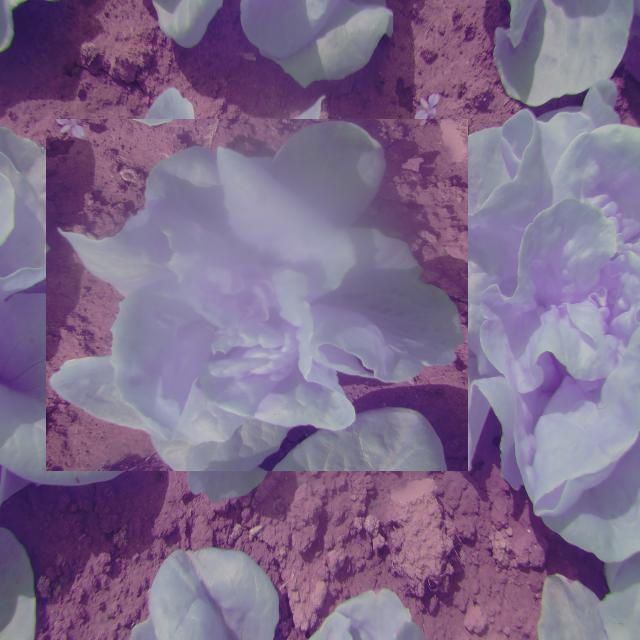vege: (64, 102, 451, 488)
